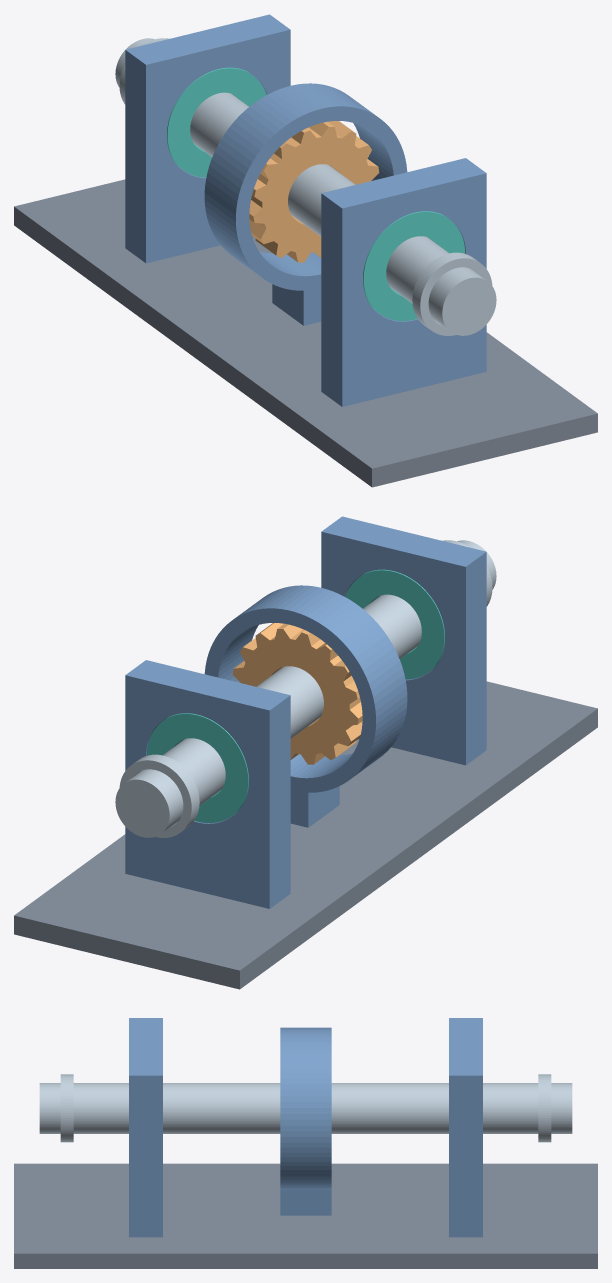
File: assembly.glb
3 views of the same model, one above another, from view 1: azimuth 30°, elevation 25°; view 2: azimuth 150°, elevation 25°; view 3: azimuth 270°, elevation 25° (orthographic). The views are drawn at different scales.
Parts seen in each view (by area): view 1: base, rear_housing, front_housing, guard, shaft, gear, rear_bearing, front_bearing, rear_retainer; view 2: base, front_housing, rear_housing, guard, shaft, gear, front_bearing, rear_bearing, front_retainer; view 3: base, shaft, guard, front_housing, rear_housing, front_retainer, rear_retainer.
Boxes of the visible parts, bbox=[...] form: base: bbox=[14, 179, 597, 487]; rear_housing: bbox=[321, 158, 486, 406]; front_housing: bbox=[125, 14, 290, 263]; guard: bbox=[204, 83, 407, 325]; shaft: bbox=[115, 38, 496, 335]; gear: bbox=[249, 121, 379, 262]; rear_bearing: bbox=[363, 211, 465, 320]; front_bearing: bbox=[167, 67, 266, 177]; rear_retainer: bbox=[412, 252, 492, 335]; base: bbox=[14, 681, 597, 989]; front_housing: bbox=[125, 660, 290, 908]; rear_housing: bbox=[321, 516, 486, 765]; guard: bbox=[204, 585, 407, 827]; shaft: bbox=[115, 540, 496, 837]; gear: bbox=[232, 623, 362, 764]; front_bearing: bbox=[146, 713, 248, 822]; rear_bearing: bbox=[345, 569, 444, 679]; front_retainer: bbox=[119, 754, 199, 837]; base: bbox=[14, 1163, 597, 1268]; shaft: bbox=[39, 1083, 572, 1133]; guard: bbox=[280, 1027, 331, 1215]; front_housing: bbox=[449, 1018, 482, 1237]; rear_housing: bbox=[129, 1018, 162, 1237]; front_retainer: bbox=[538, 1074, 551, 1142]; rear_retainer: bbox=[60, 1074, 73, 1142].
Size of the model in its own units: 0.0539 by 0.0528 by 0.1479.
